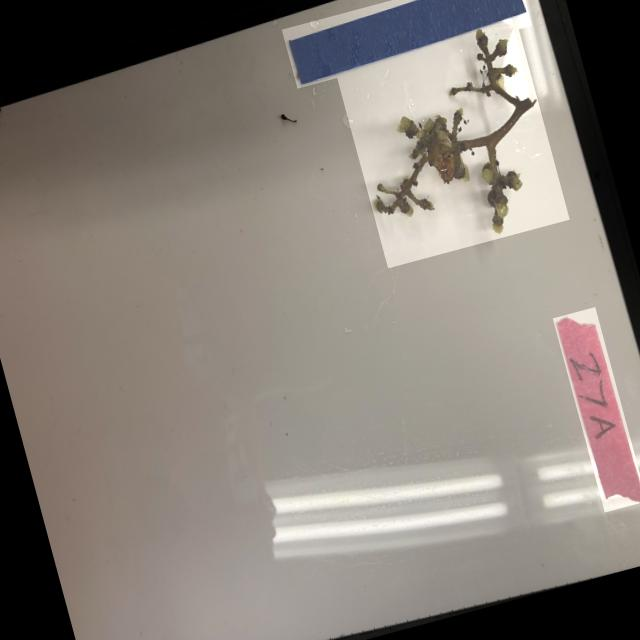index: (551, 306, 640, 512)
measure_label: (280, 0, 531, 88)
rachis_cluster: (333, 20, 568, 268)
